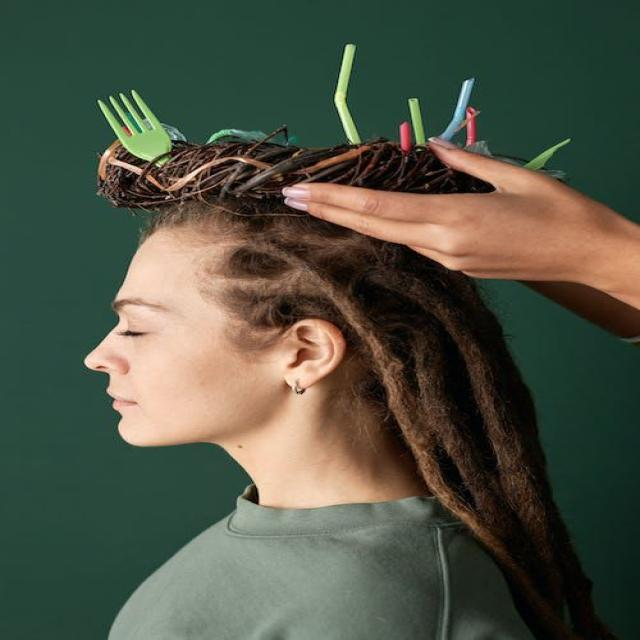plastic: (82, 92, 193, 161), (326, 36, 372, 147), (396, 85, 436, 144)
